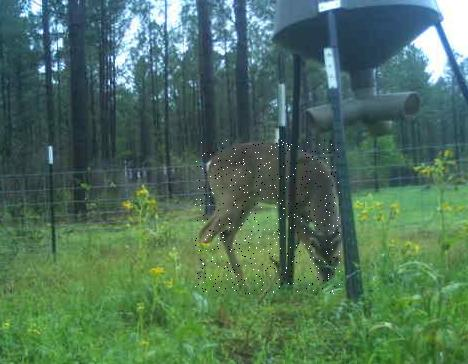Deer: (196, 139, 341, 294)
